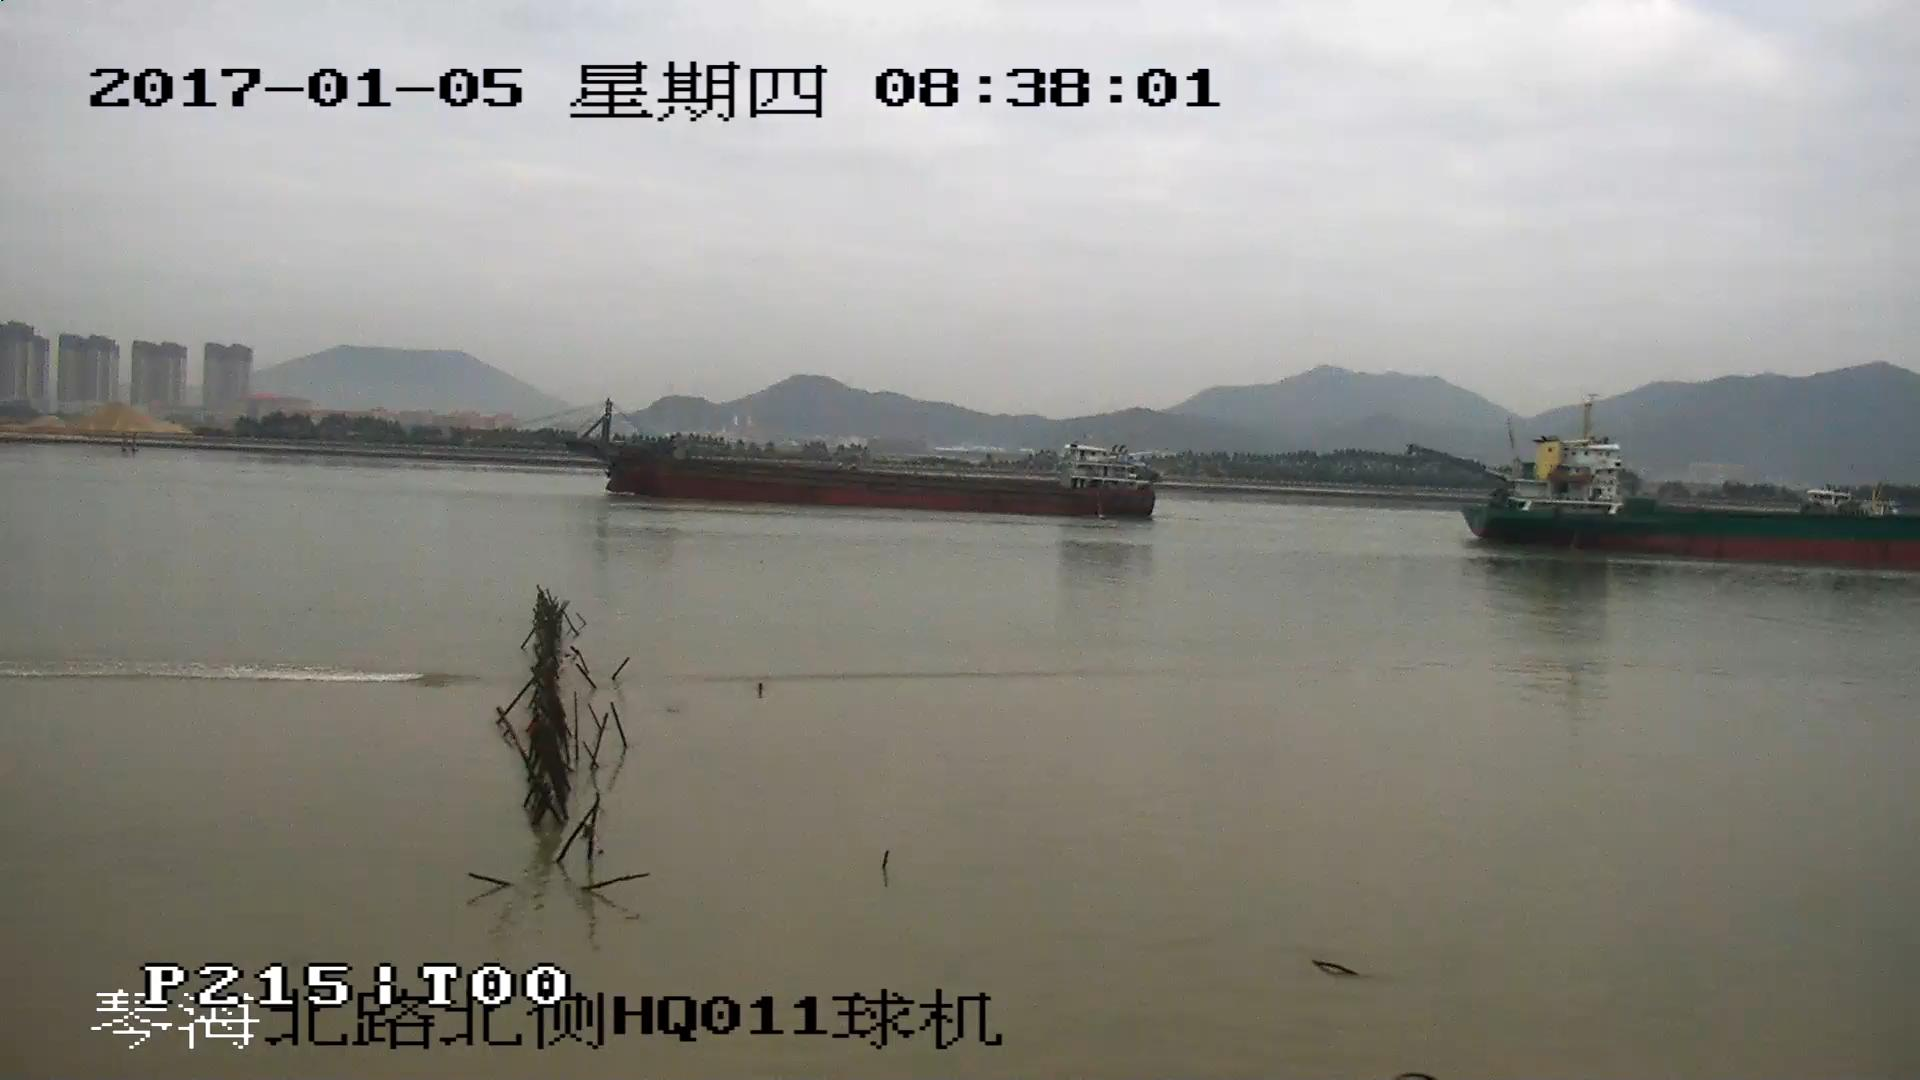bulk cargo carrier: (512, 404, 1159, 520)
general cargo ship: (1453, 400, 1920, 565)
